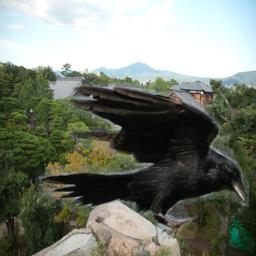Crow: (35, 83, 249, 239)
